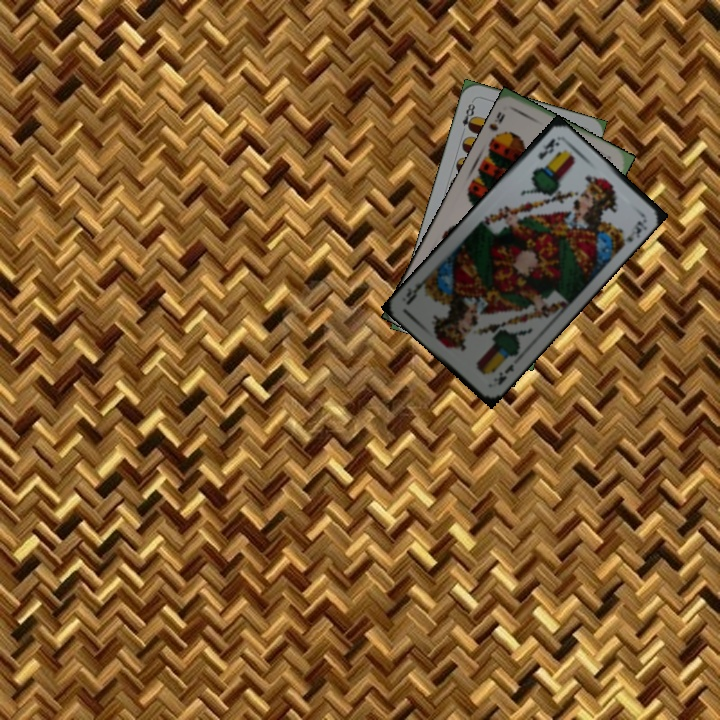E8: (458, 97, 478, 133)
EK: (534, 134, 562, 162), (494, 360, 517, 388)
S9: (486, 108, 508, 144)
